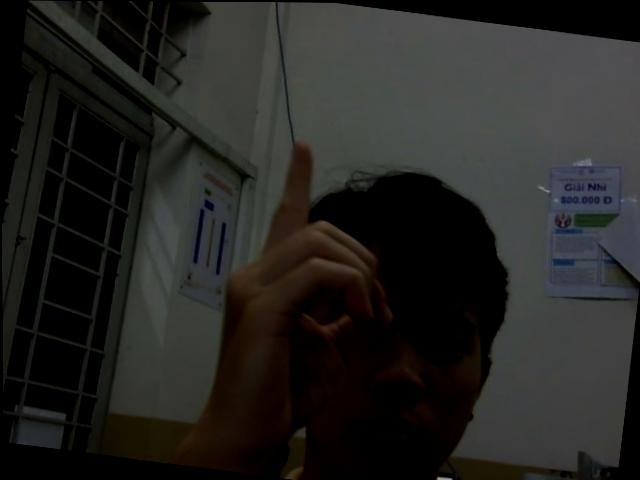D: (202, 129, 413, 459)
